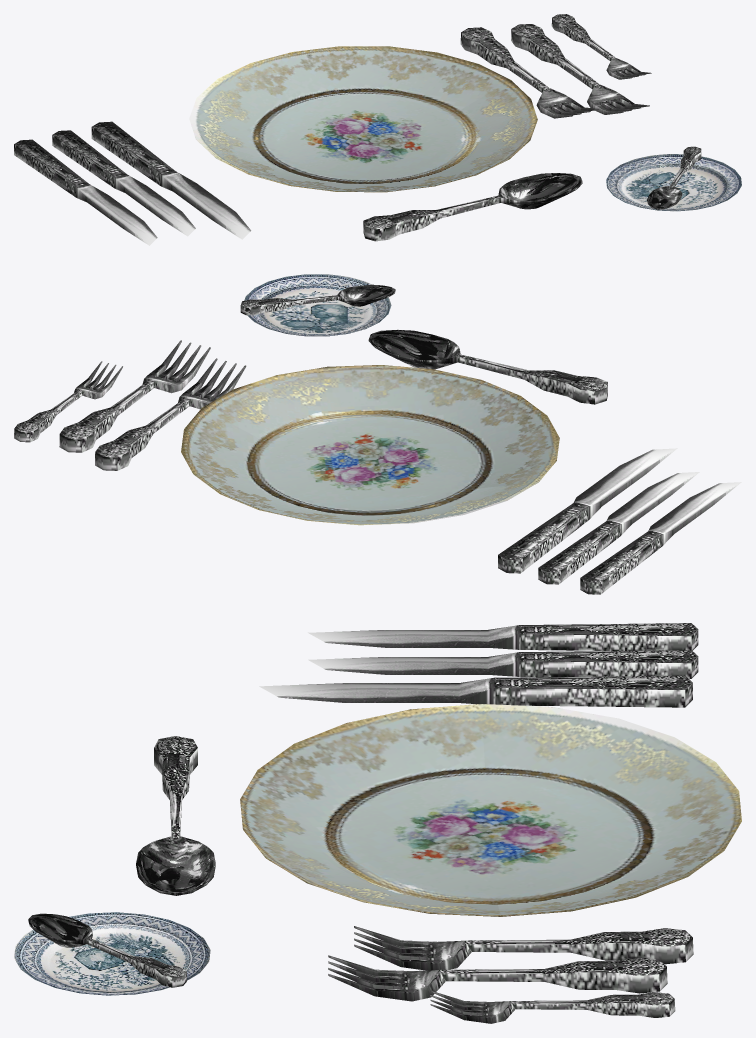
Rendered from cutlery.DAE.
3 renders of one model, top to bottom at view 1: azimuth 30°, elevation 25°; view 2: azimuth 150°, elevation 25°; view 3: azimuth 270°, elevation 25°, orthographic. The views are drawn at different scales.
Parts seen in each view (by area): view 1: Cylinder007; view 2: Cylinder007; view 3: Cylinder007.
Boxes of the visible parts, x1,y1,x2,y2 form: Cylinder007: (14,14,741,245); Cylinder007: (14,274,741,594); Cylinder007: (14,623,741,1023).
Size of the model in its own units: 0.7397 by 0.0242 by 0.5867.
